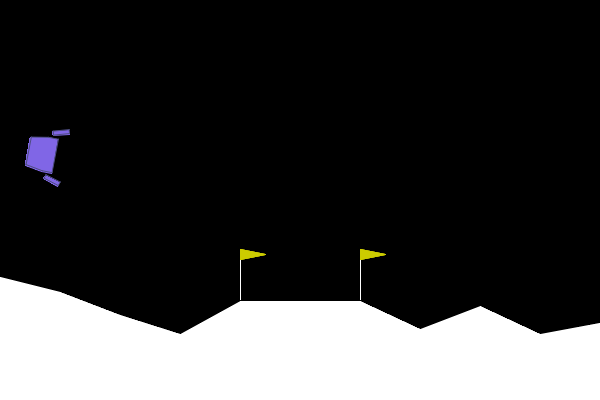lander: (20, 121, 71, 188)
